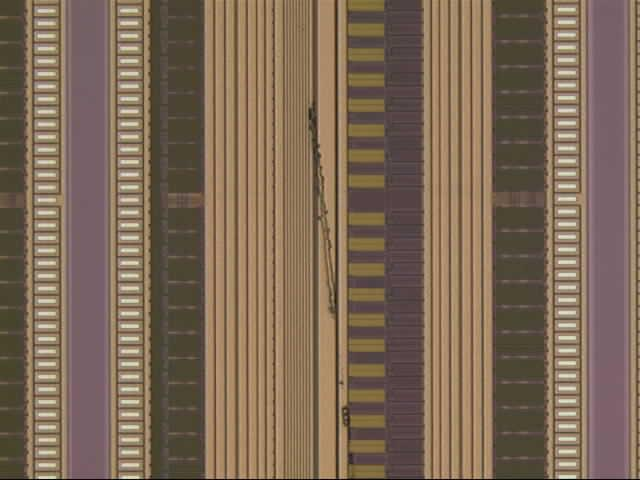SCRATCH: (303, 97, 364, 442)
